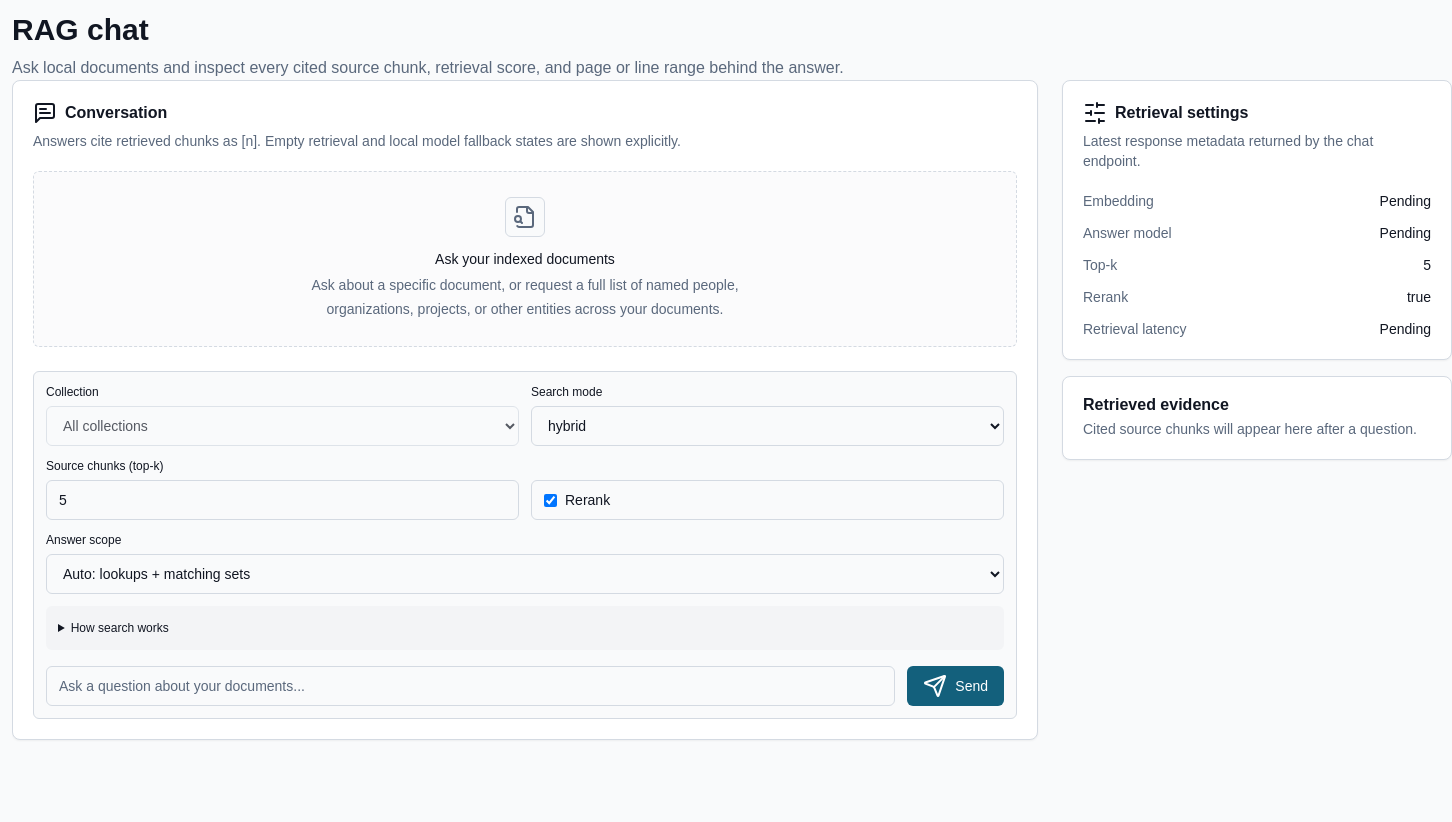
Test: chat › submits a question and renders citations
The width and height of the screenshot is (1452, 822).
Type "What is the total?" into the field with placeholder "Ask a question about your documents...".
click(471, 686); type("What is the total?")  # box [46,666,895,706]
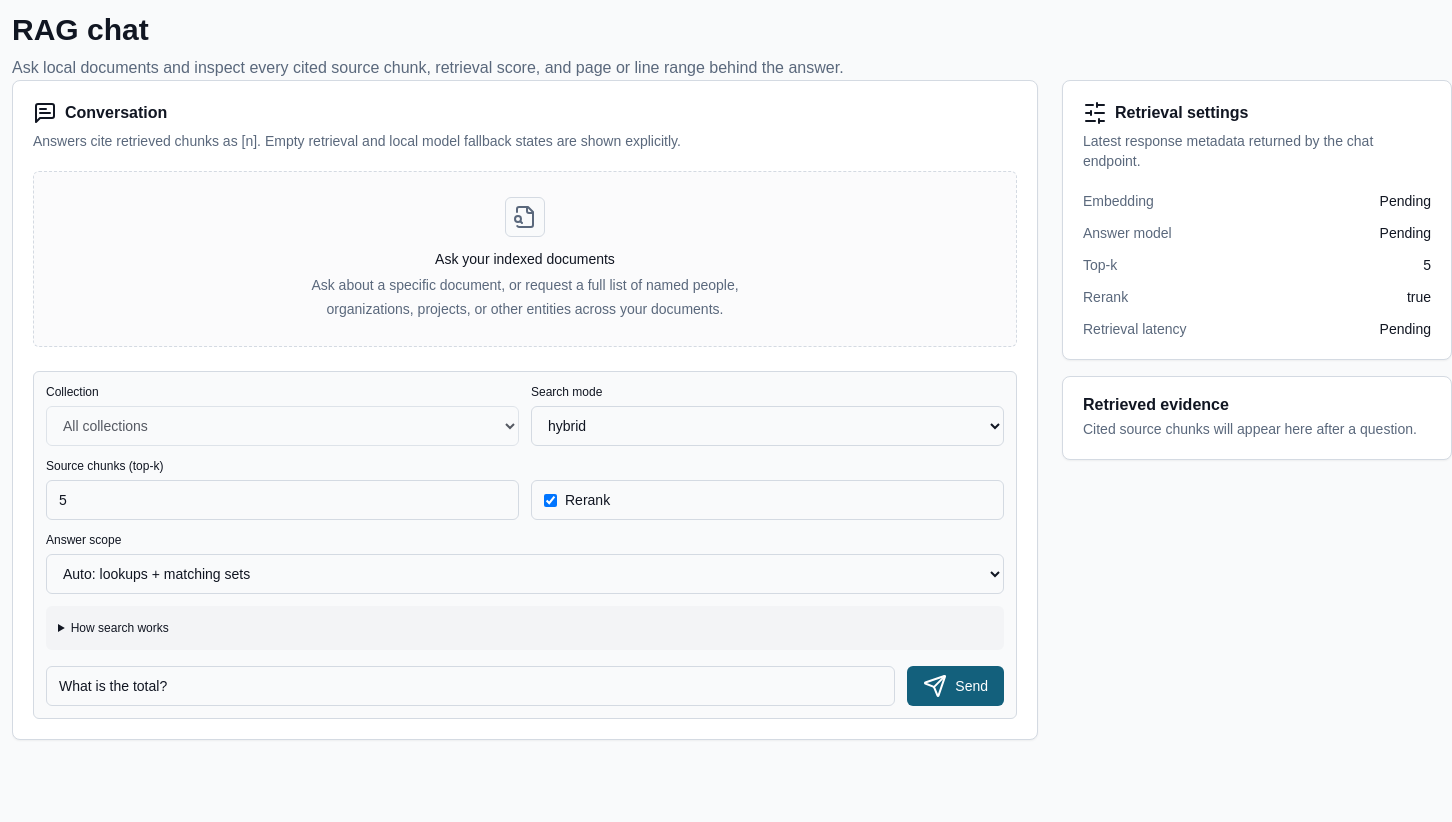
Click the button "Send".
click(956, 686)  # box [907,666,1004,706]
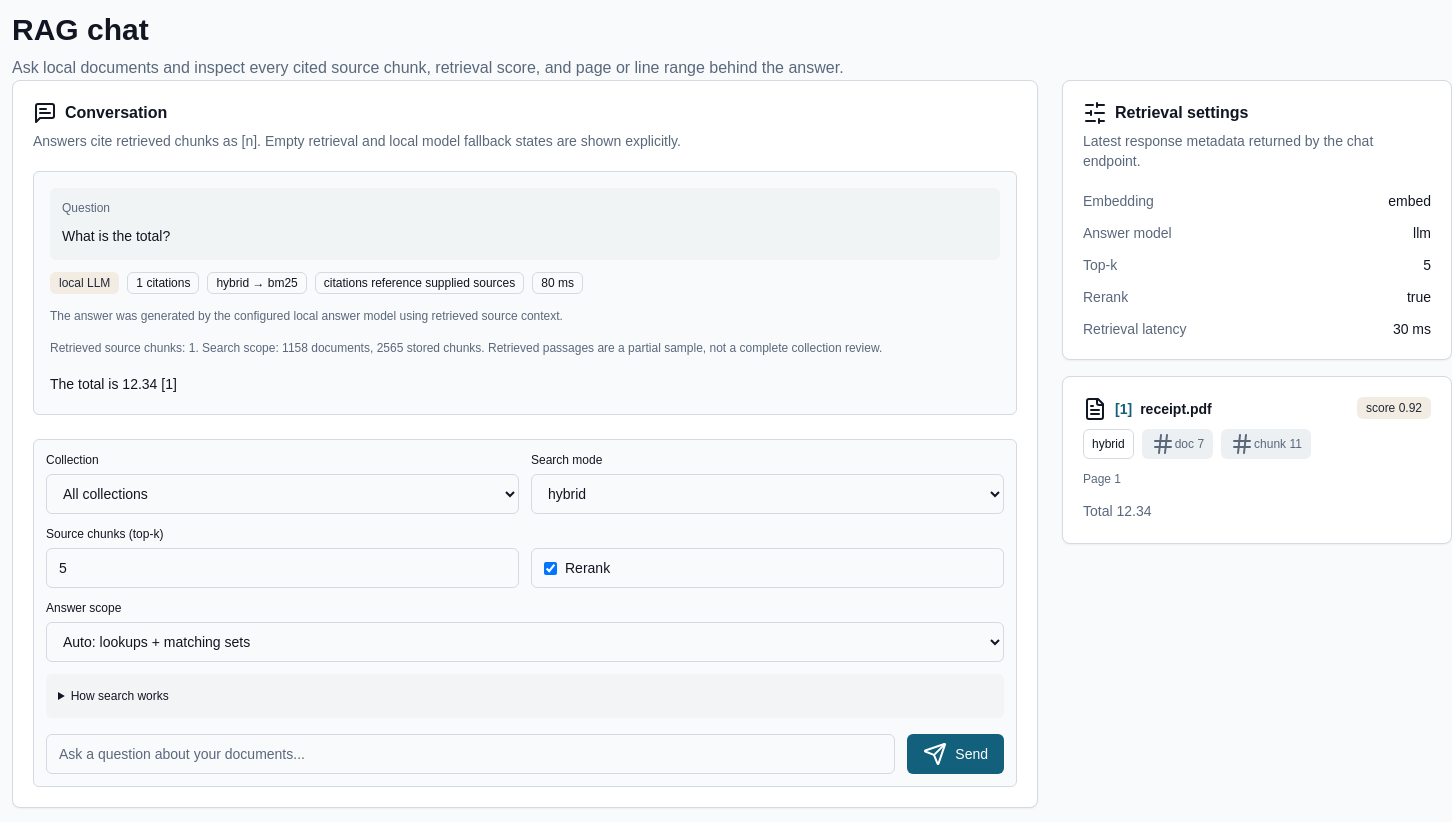
Expected: the text "The total is 12.34 [1]" is shown, [50,376,177,392]
Expected: the text "Retrieved source chunks: 1. Search scope: 1158 documents, 2565 stored chunks. Retrieved passages are a partial sample, n" is shown, [50,341,882,355]
Expected: the text "Total 12.34" is shown, [1083,503,1152,519]
